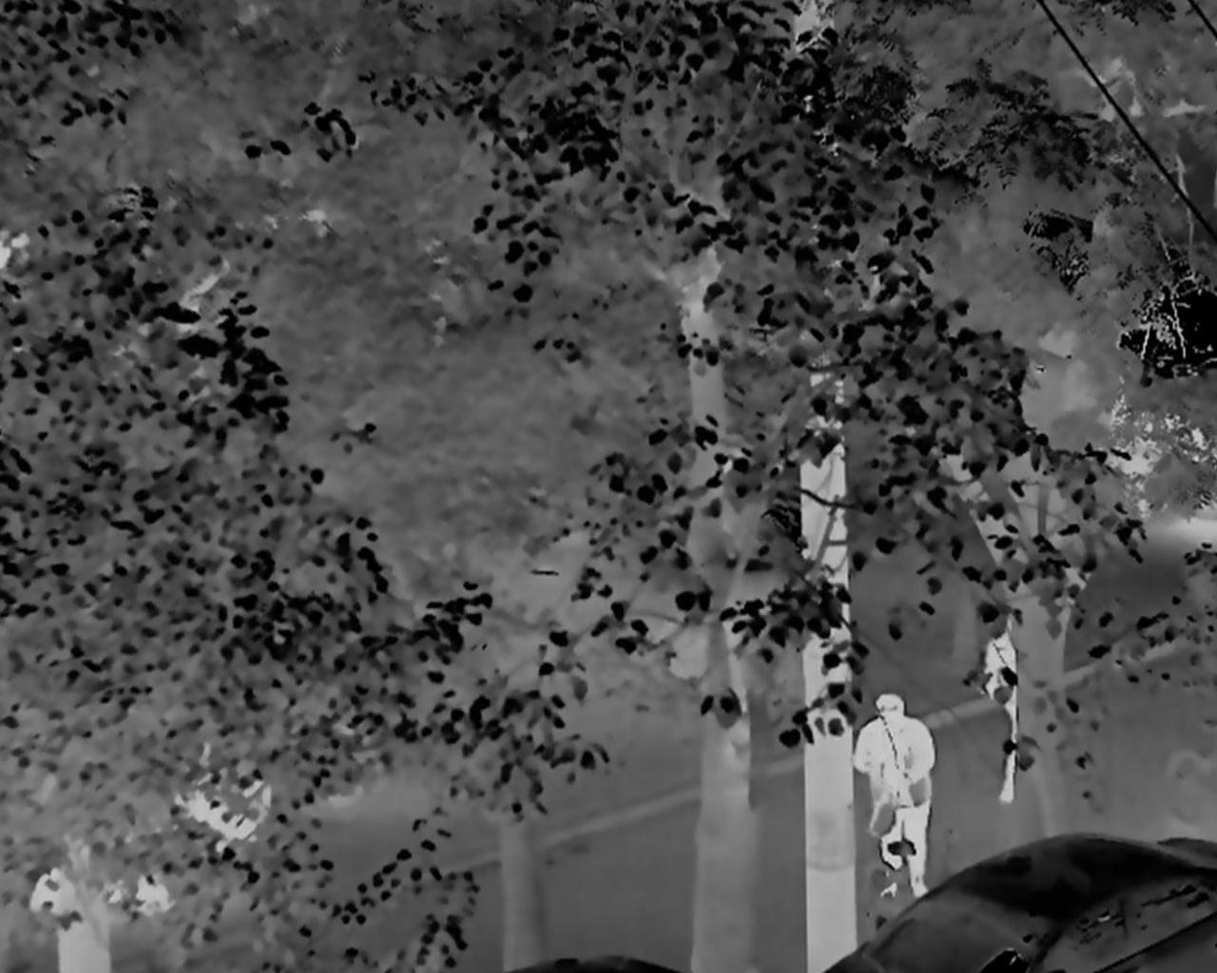person: (859, 693, 938, 901), (976, 615, 1027, 799)
